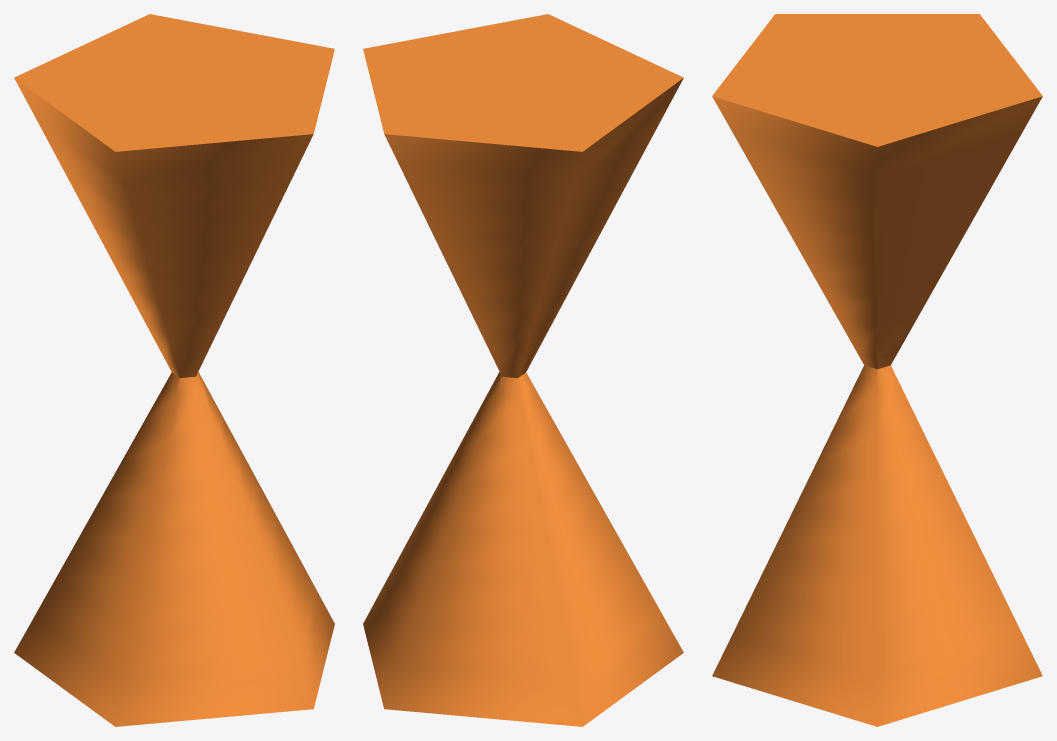
The model's file is Spirit4.fbx.
3 renders of one model, left to right at view 1: azimuth 30°, elevation 25°; view 2: azimuth 150°, elevation 25°; view 3: azimuth 270°, elevation 25°, orthographic.
Visible parts, largest first — view 1: Kegel_1, Kegel; view 2: Kegel_1, Kegel; view 3: Kegel, Kegel_1.
Part boxes in pixels (<box>): Kegel_1: <box>14,372,334,726</box>; Kegel: <box>14,14,334,377</box>; Kegel_1: <box>363,372,683,726</box>; Kegel: <box>363,14,683,377</box>; Kegel: <box>712,14,1042,369</box>; Kegel_1: <box>712,365,1042,726</box>.
Bounding box in the file's own units: 181 × 368 × 190.
